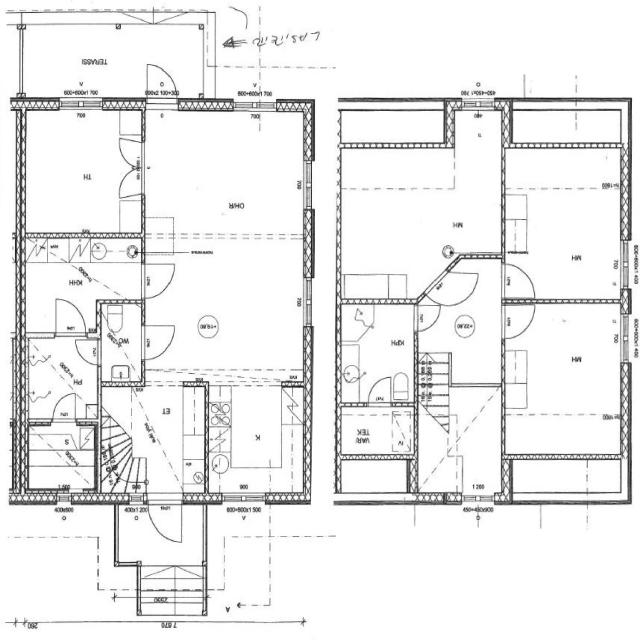door: (146, 496, 186, 544), (439, 262, 480, 307), (116, 136, 145, 198), (140, 320, 179, 363), (52, 294, 88, 339), (141, 256, 177, 300), (501, 300, 538, 342), (143, 60, 180, 101), (501, 260, 537, 298), (49, 390, 78, 425), (366, 372, 394, 407), (414, 299, 442, 331), (74, 336, 102, 366)
window: (616, 236, 634, 291), (300, 274, 317, 332), (618, 308, 634, 368), (301, 157, 317, 214), (57, 96, 106, 114), (231, 97, 279, 115), (219, 490, 268, 506), (450, 378, 502, 390), (459, 96, 498, 112), (462, 492, 498, 508), (145, 378, 187, 390), (54, 489, 74, 504)
zone: (142, 236, 303, 383), (148, 111, 310, 239), (500, 146, 626, 302), (504, 302, 625, 454), (338, 147, 452, 300), (20, 110, 144, 237), (19, 235, 145, 336), (416, 257, 504, 388), (208, 384, 307, 497), (452, 108, 506, 256), (339, 302, 417, 402), (20, 334, 99, 421), (453, 382, 504, 501), (24, 420, 98, 492), (510, 459, 628, 499), (336, 404, 416, 458), (415, 401, 455, 494), (100, 301, 144, 384), (336, 458, 412, 500), (52, 294, 89, 340)
